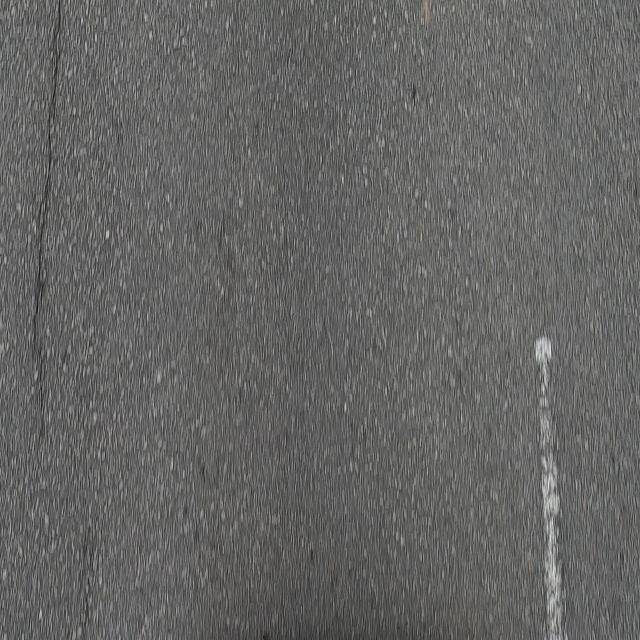Retak-Memanjang: (22, 3, 65, 430)
